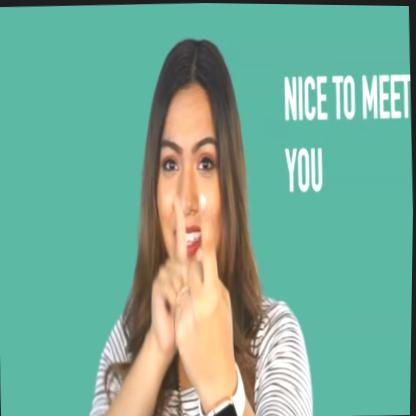NiceToMeetYou: (147, 176, 252, 414)
